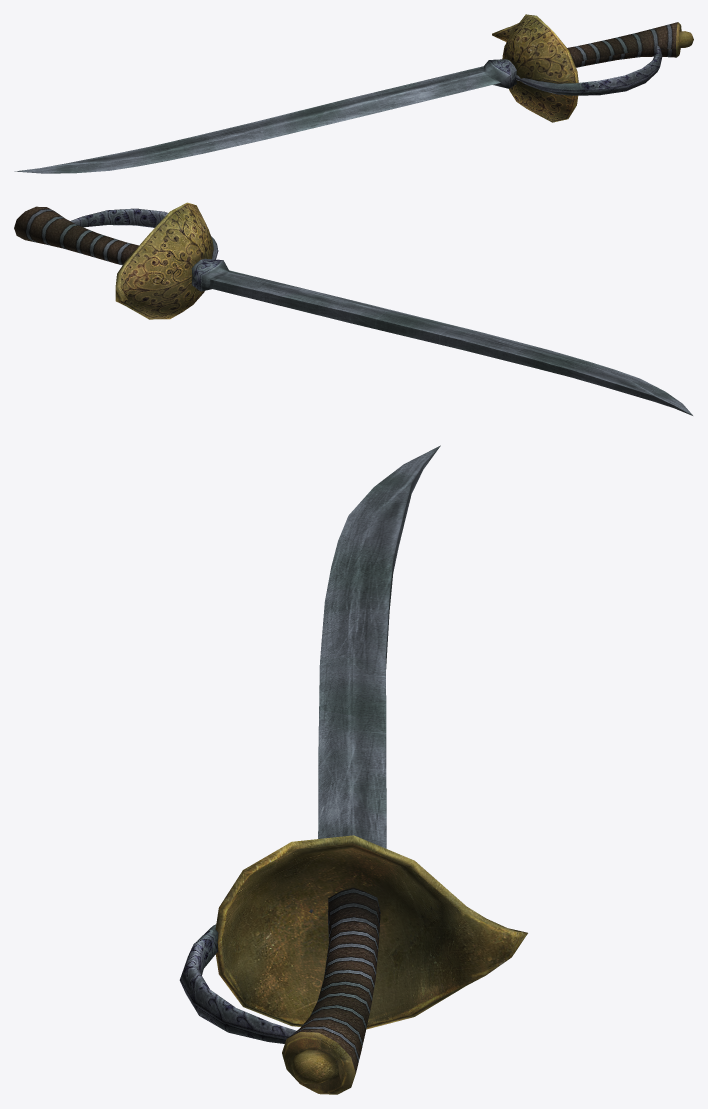
Rendered from Pirate_sword_A.FBX.
The picture shows the model from 3 angles, top to bottom: view 1: azimuth 30°, elevation 25°; view 2: azimuth 150°, elevation 25°; view 3: azimuth 270°, elevation 25°; orthographic projection. The views are drawn at different scales.
Visible parts, largest first — view 1: Pirate_sword_A01; view 2: Pirate_sword_A01; view 3: Pirate_sword_A01.
Part boxes in pixels (<box>): Pirate_sword_A01: <box>14,14,693,173</box>; Pirate_sword_A01: <box>14,202,692,415</box>; Pirate_sword_A01: <box>179,445,527,1094</box>.
Bounding box in the file's own units: 110 × 16 × 25.61.
